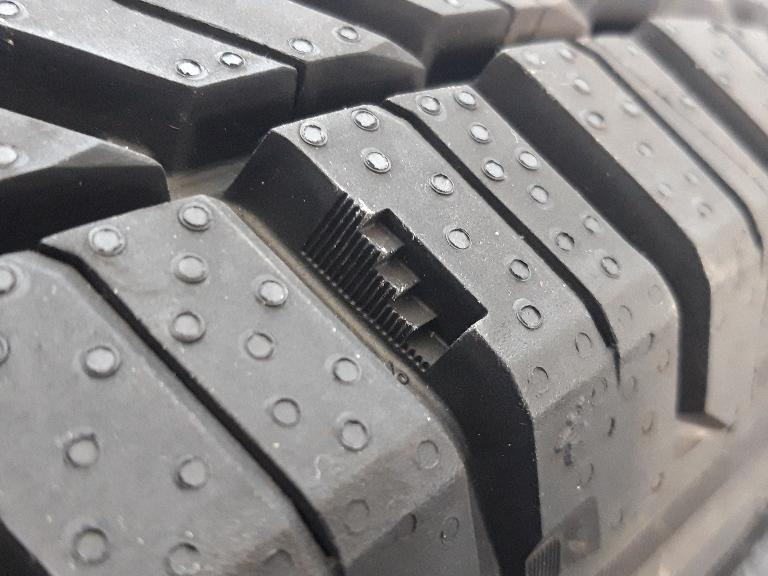temoin:100: (290, 180, 502, 384)
